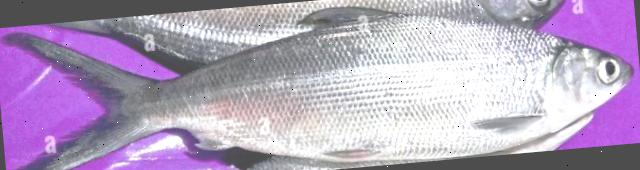Healthy Fish: (5, 7, 631, 170)
